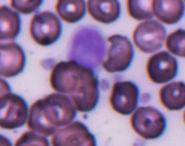L: (66, 22, 108, 68)
